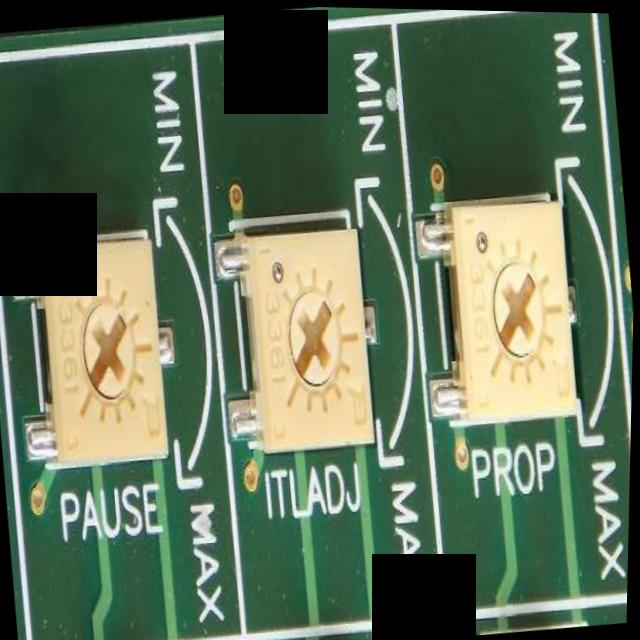potentiometer POT1: (419, 166, 594, 439), (8, 216, 183, 478), (212, 203, 388, 456)
